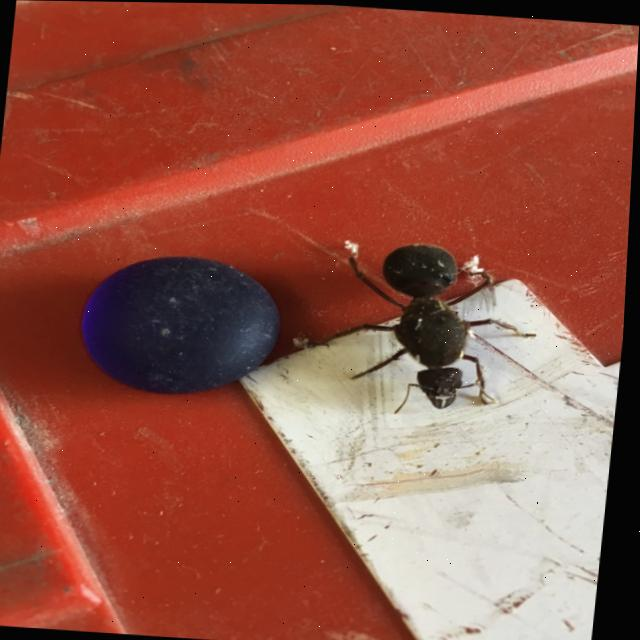Alive-Female-Dealate: (307, 236, 549, 422)
